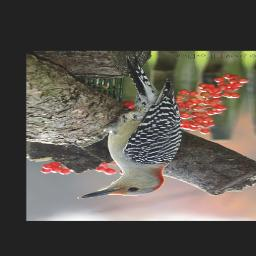Woodpecker: (70, 51, 182, 202)
